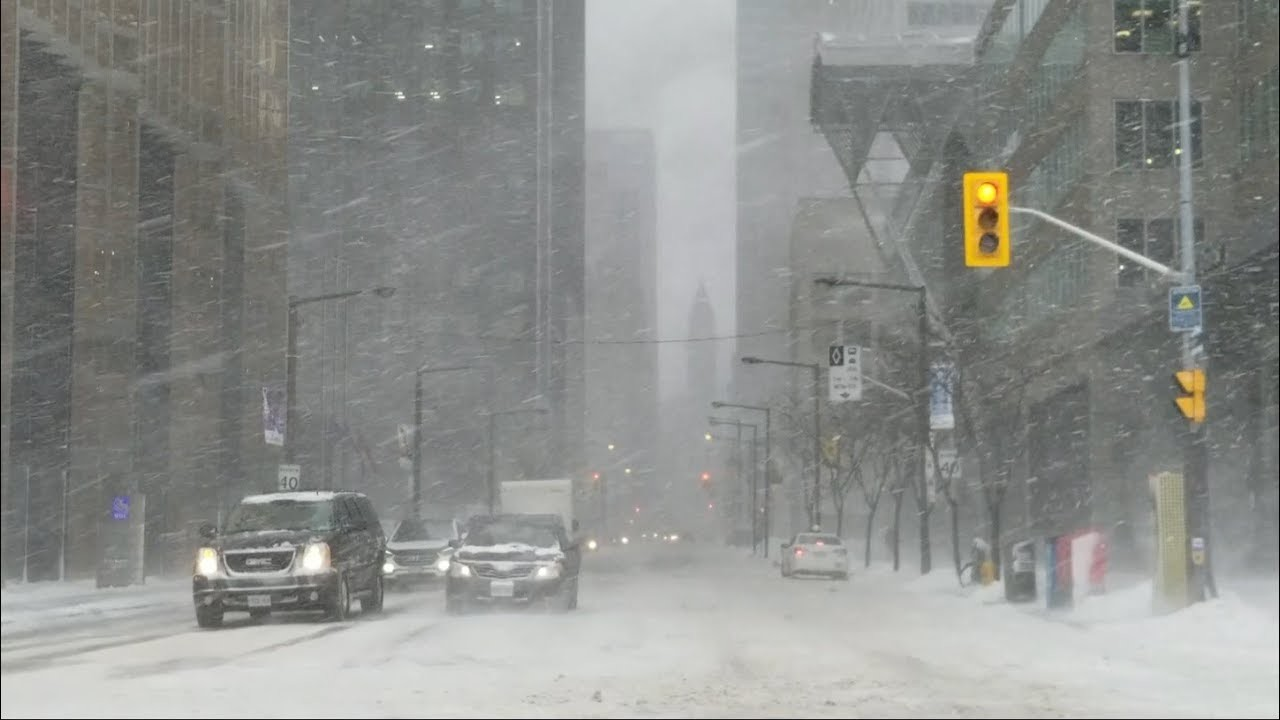car: (191, 489, 397, 628), (436, 511, 581, 612), (384, 517, 455, 579), (780, 531, 850, 580)
